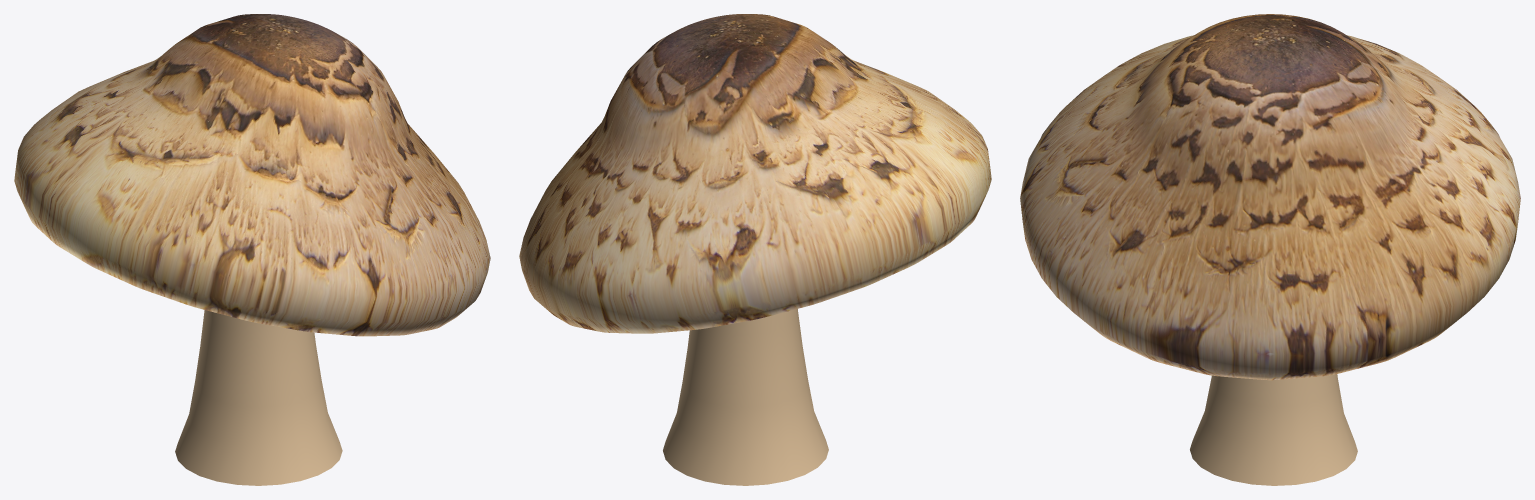
Rendered from mushroom.FBX.
The picture shows the model from 3 angles, left to right: view 1: azimuth 30°, elevation 25°; view 2: azimuth 150°, elevation 25°; view 3: azimuth 270°, elevation 25°; orthographic projection.
Visible parts, largest first — view 1: Cone001, Cone002; view 2: Cone001, Cone002; view 3: Cone001, Cone002.
Part boxes in pixels (left/top/right/bottom): Cone001: left=14, top=14, right=490, bottom=336; Cone002: left=175, top=310, right=342, bottom=485; Cone001: left=519, top=14, right=991, bottom=333; Cone002: left=663, top=309, right=828, bottom=485; Cone001: left=1020, top=14, right=1520, bottom=380; Cone002: left=1190, top=374, right=1357, bottom=485.
Size of the model in its own units: 118 by 118 by 126.
2 materials, 2 textured.
